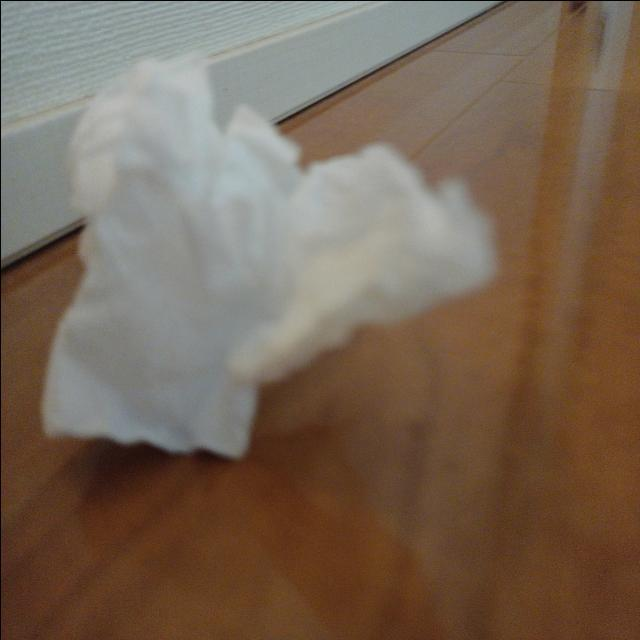Paper: (51, 70, 500, 471)
